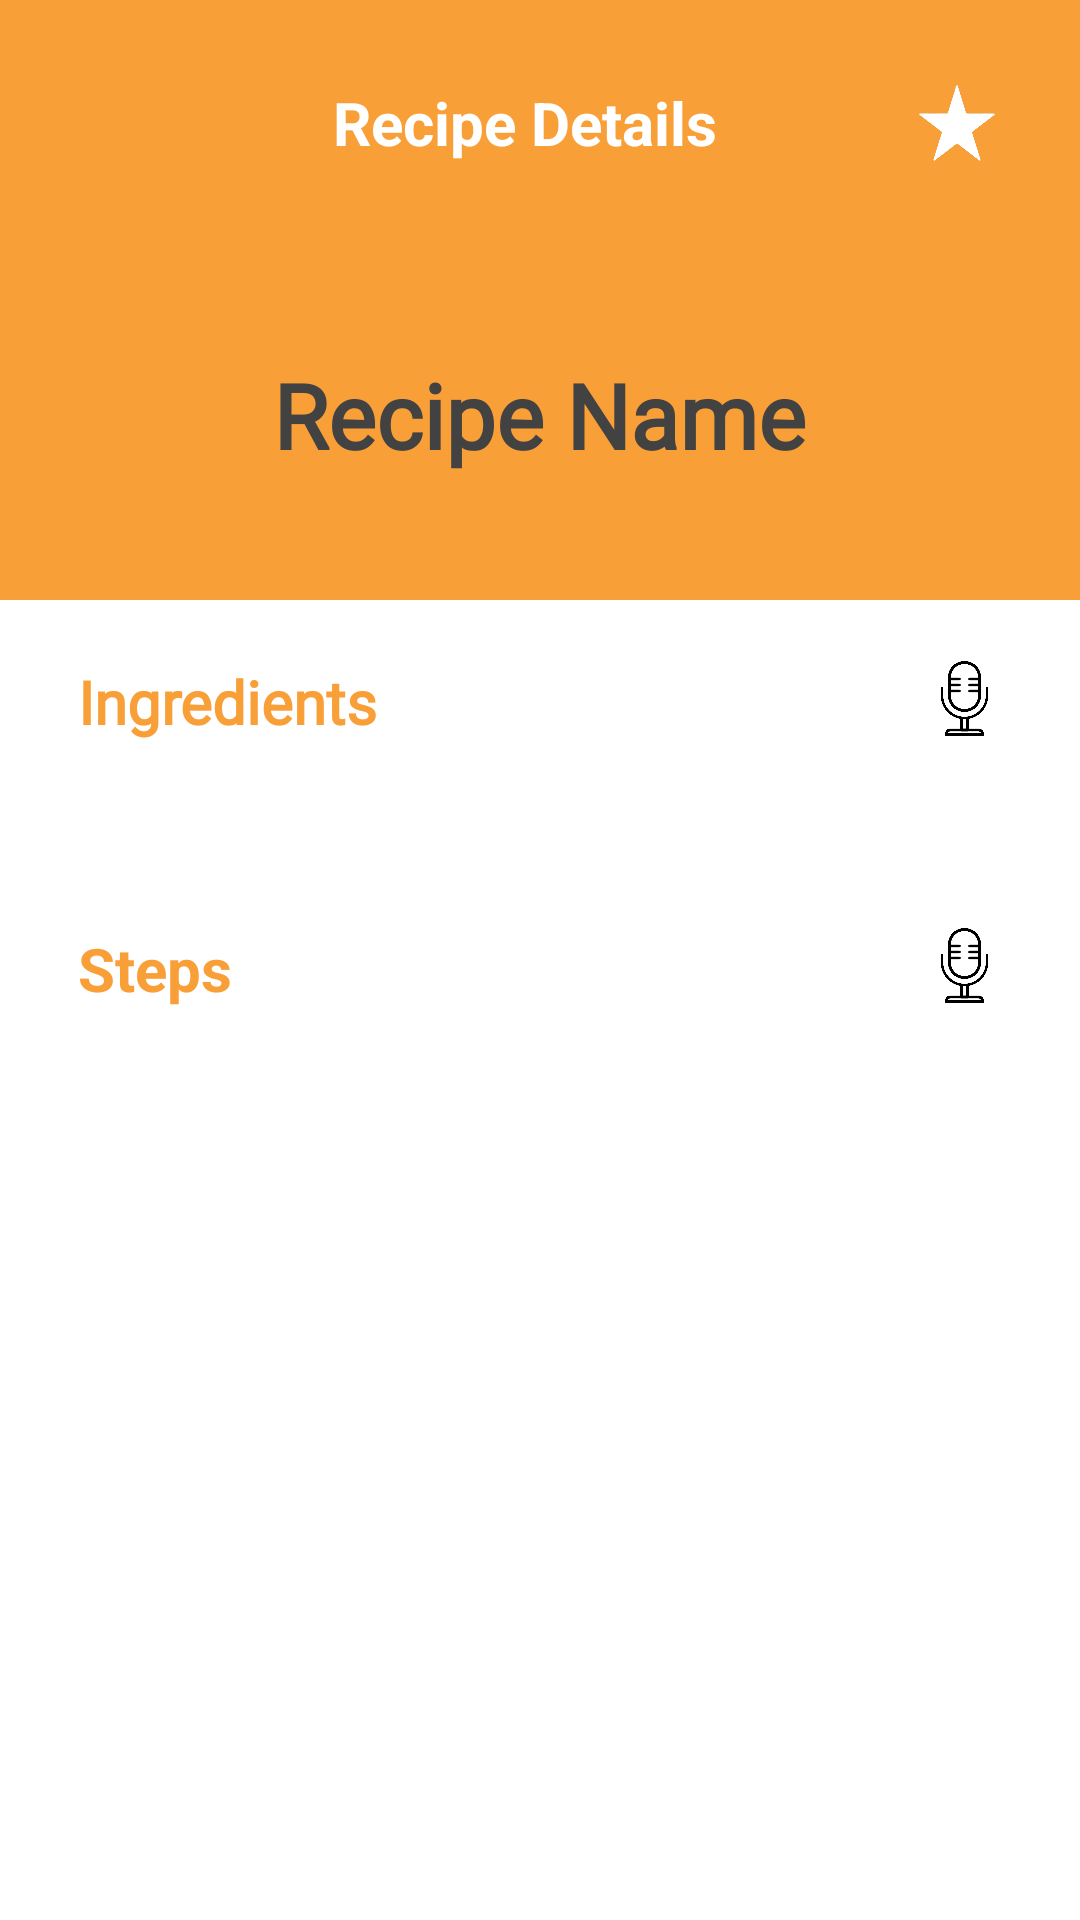

Icon bounding boxes for this 1080 x 1920 phone screenshot, format [x1=x1, y1=y1, x2=x2, y2=y2]:
micro: [x1=941, y1=661, x2=988, y2=736], [x1=941, y1=928, x2=988, y2=1003]
